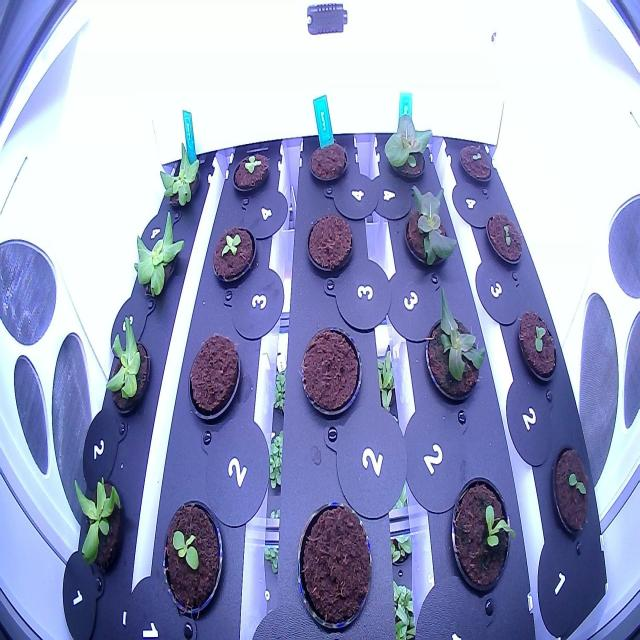germination: (508, 297, 564, 388), (547, 445, 595, 549), (480, 203, 527, 271), (454, 136, 496, 190)
pod: (288, 494, 379, 635), (297, 317, 365, 422), (182, 329, 246, 430), (304, 204, 356, 287), (306, 134, 351, 190)
young: (444, 465, 521, 609), (418, 280, 491, 423), (156, 495, 227, 623), (69, 468, 131, 590), (399, 172, 462, 286), (125, 204, 188, 301), (101, 306, 152, 415), (376, 103, 439, 189), (208, 214, 260, 296), (152, 135, 205, 211), (228, 146, 274, 203)
